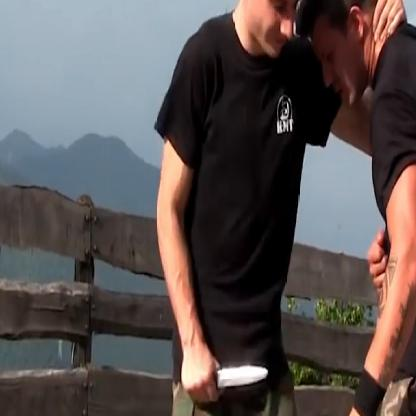knife: (176, 347, 272, 411)
